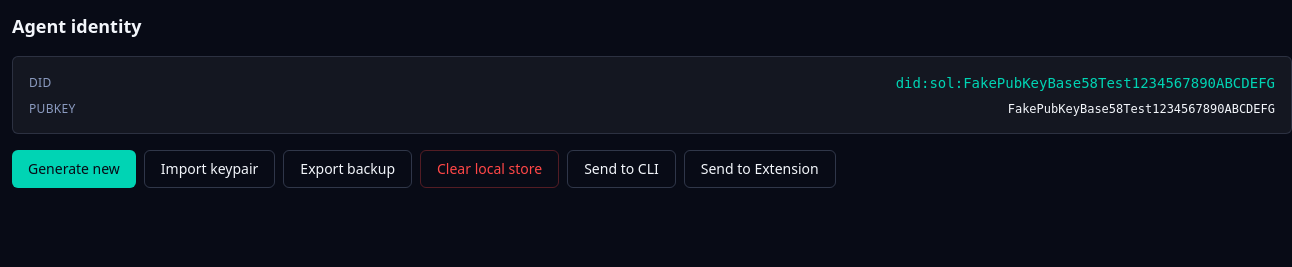
it: IdentityPanel › send_to_cli_429_shows_per_user_cap_message
Click the button with test id "identity-send-to-cli".
click(622, 169)  # box [567,150,676,188]
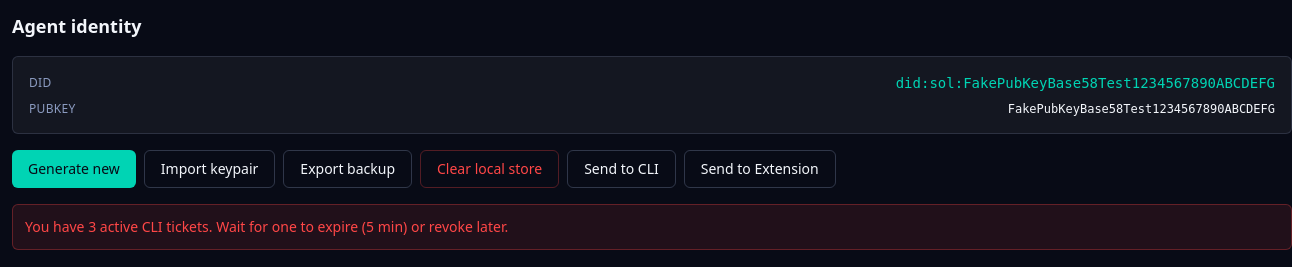
Expected: the message with test id "identity-cli-error" shows "3 active CLI tickets", [25,217,508,236]
